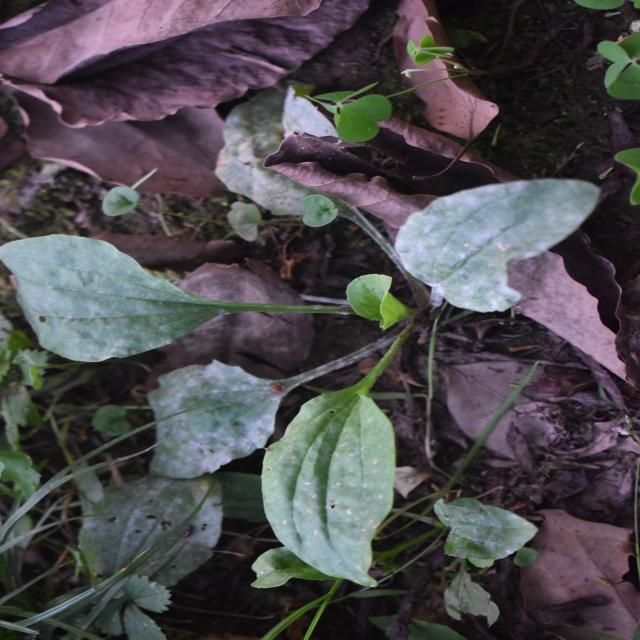plantain: (81, 28, 472, 604)
